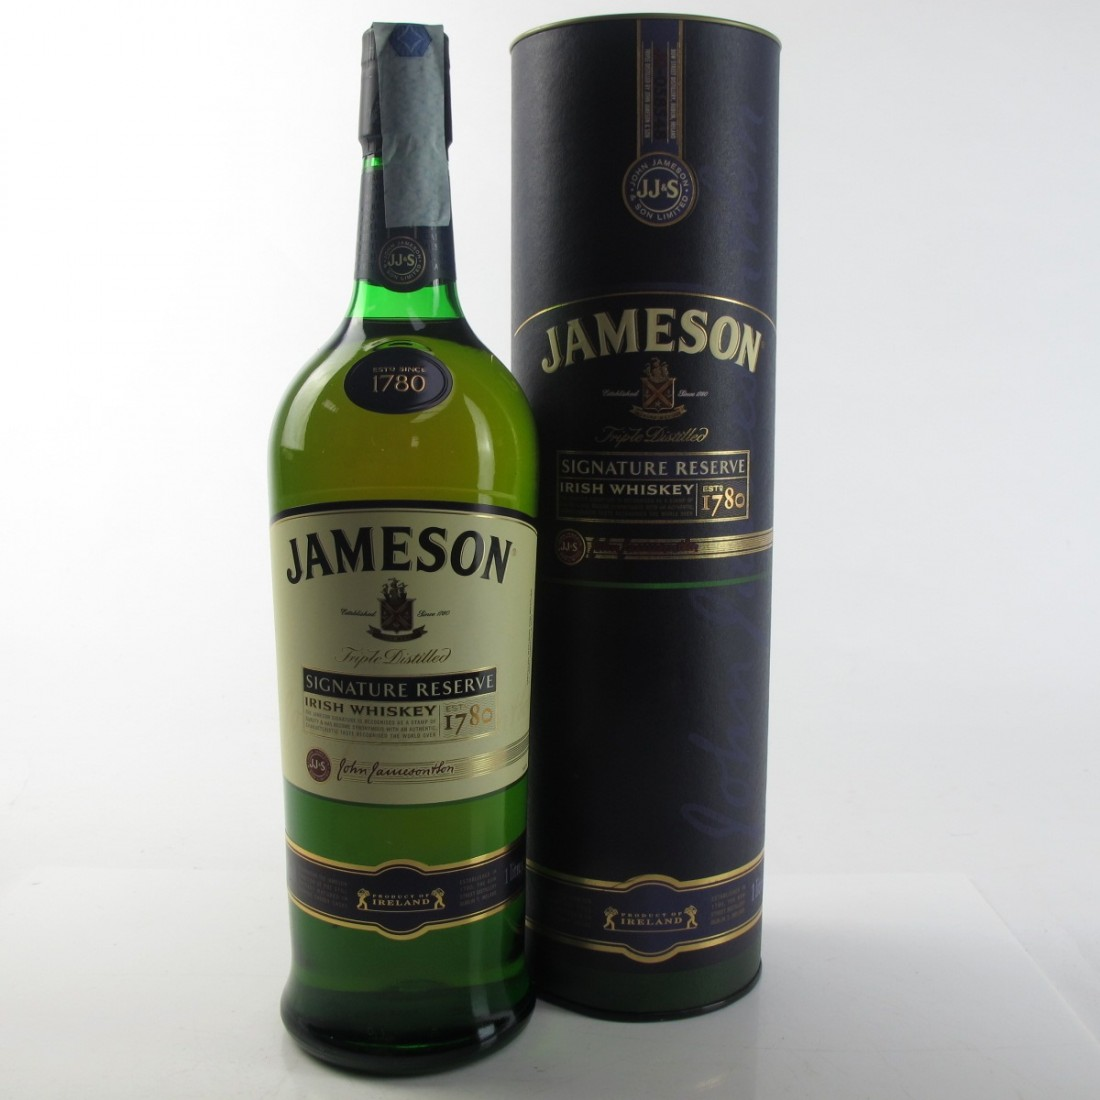Jameson: (246, 6, 559, 1092)
